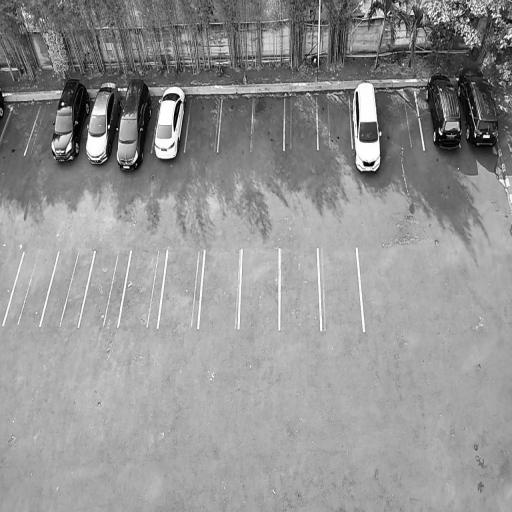Car: (454, 62, 503, 151), (113, 75, 157, 172), (420, 68, 467, 154), (82, 74, 125, 167), (49, 75, 93, 165), (351, 80, 384, 177), (150, 82, 189, 162)
Space Available: (3, 250, 58, 326), (77, 249, 131, 326), (40, 250, 95, 325), (318, 248, 364, 331), (118, 250, 167, 327), (158, 249, 205, 327), (279, 249, 322, 330), (198, 249, 241, 329), (239, 249, 279, 328), (0, 106, 41, 155), (217, 98, 254, 152), (184, 99, 222, 151), (317, 97, 353, 148), (0, 250, 24, 326), (24, 102, 58, 154), (251, 98, 285, 150), (284, 97, 318, 149)
